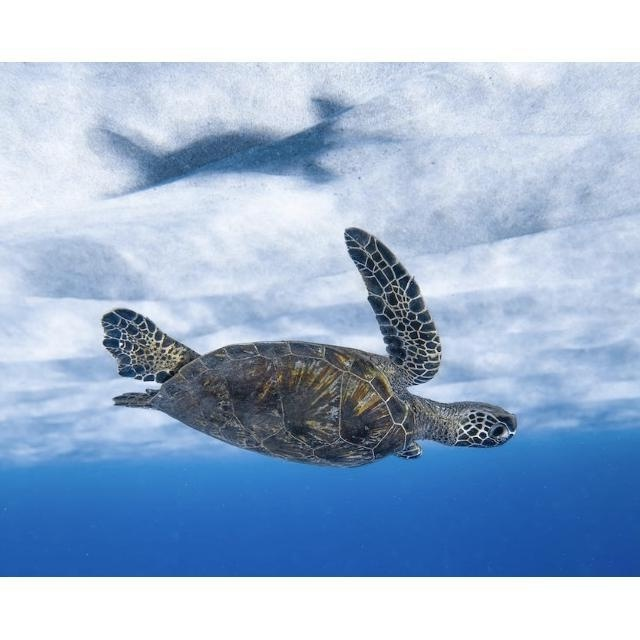turtle: (100, 225, 520, 467)
